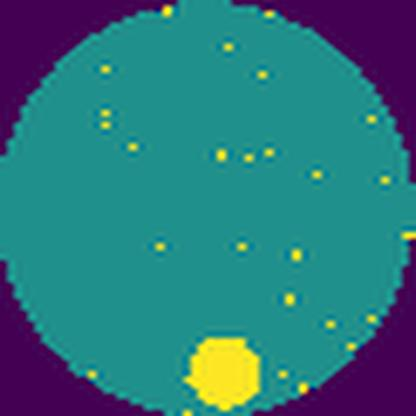Loc: (184, 335, 263, 411)
